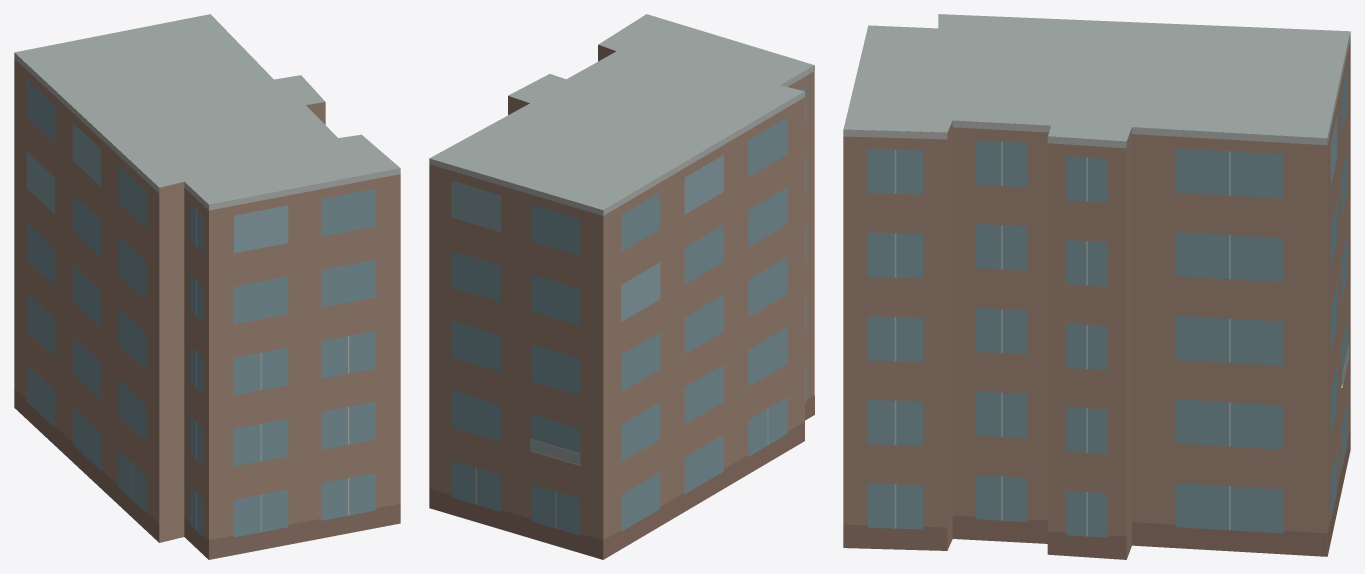
File: survey-upis-32753455.glb
The picture shows the model from 3 angles, left to right: view 1: azimuth 30°, elevation 25°; view 2: azimuth 150°, elevation 25°; view 3: azimuth 270°, elevation 25°; orthographic projection. The views are drawn at different scales.
Parts seen in each view (by area): view 1: survey-upis-32753455.tmp; view 2: survey-upis-32753455.tmp; view 3: survey-upis-32753455.tmp.
Boxes of the visible parts, box(x1,y1,x2,y2) form: survey-upis-32753455.tmp: box(14, 14, 400, 559); survey-upis-32753455.tmp: box(429, 14, 814, 559); survey-upis-32753455.tmp: box(843, 14, 1350, 559).
Bounding box in the file's own units: 9.62 × 14.7 × 16.16.
